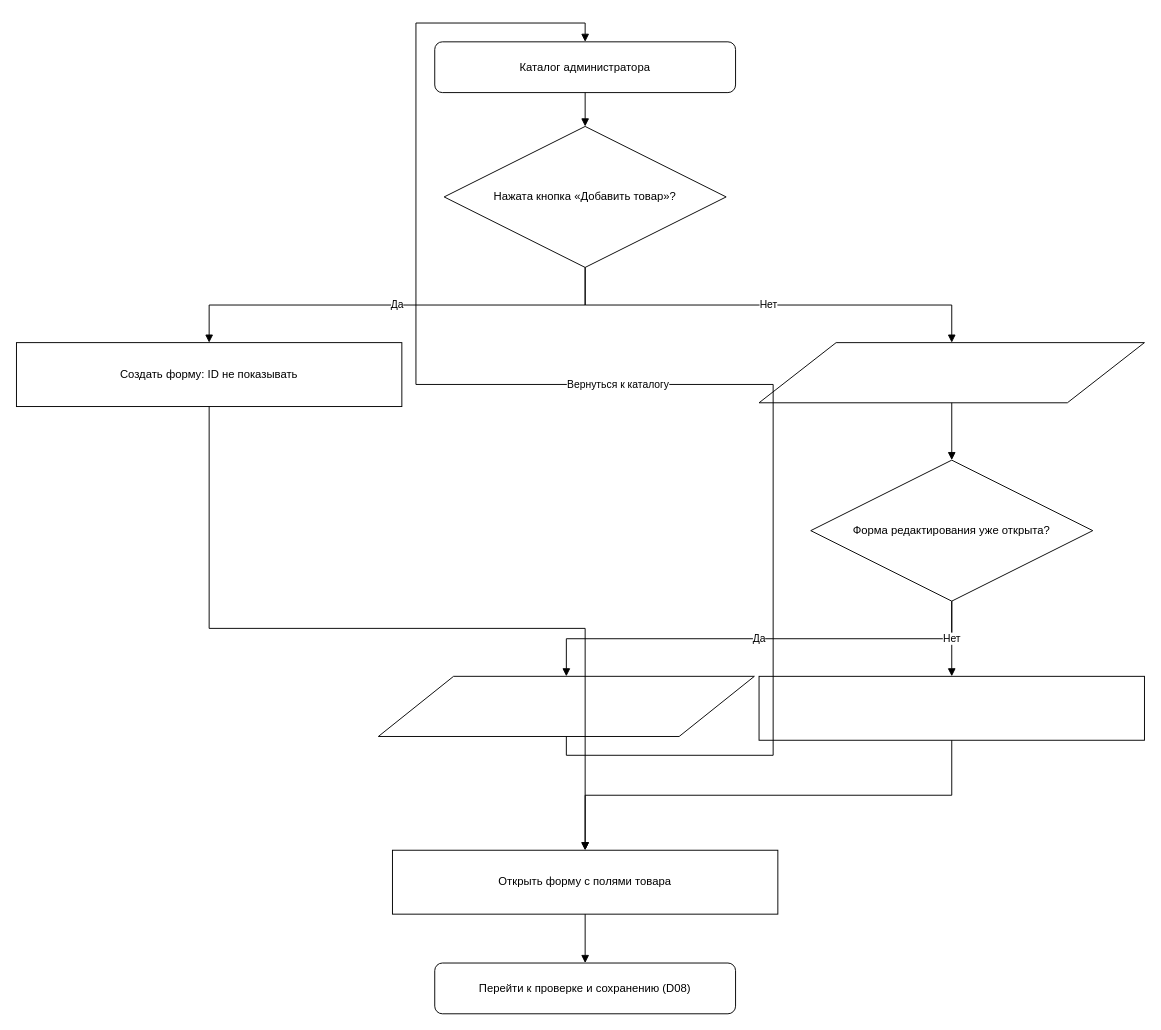
Image size: 1161x1030. Some labels were removed from this diagram. Here are the shapes that lost their labels. From the top down, the box of each, then its label:
(758, 342, 1144, 403): Выбрать товар в списке
(377, 675, 754, 736): Показать: можно открыть только одну форму
(758, 675, 1144, 740): Загрузить данные товара; ID доступен только для чтения
